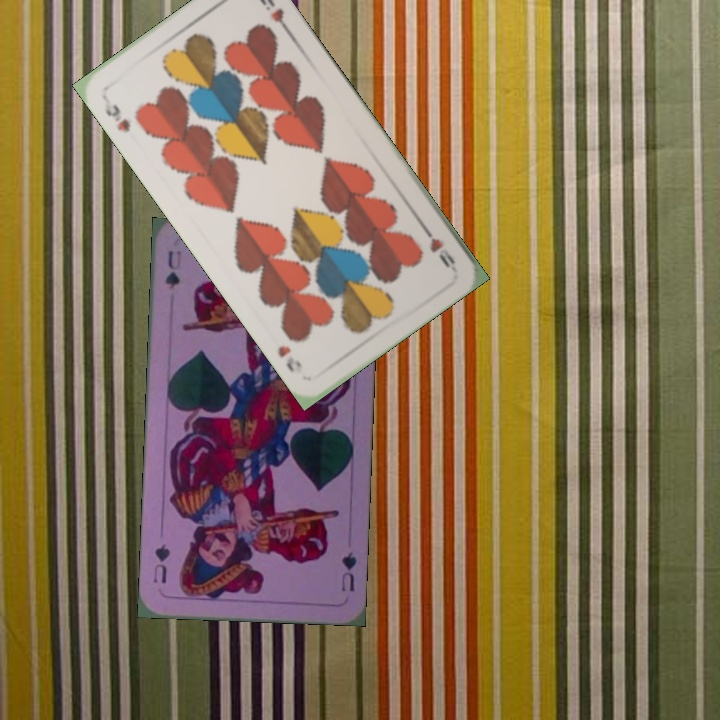GU: (161, 246, 184, 292), (337, 548, 359, 594)
H9: (417, 221, 458, 271), (99, 93, 133, 135)
